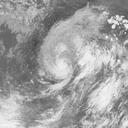cyclone: (33, 32, 90, 94)
